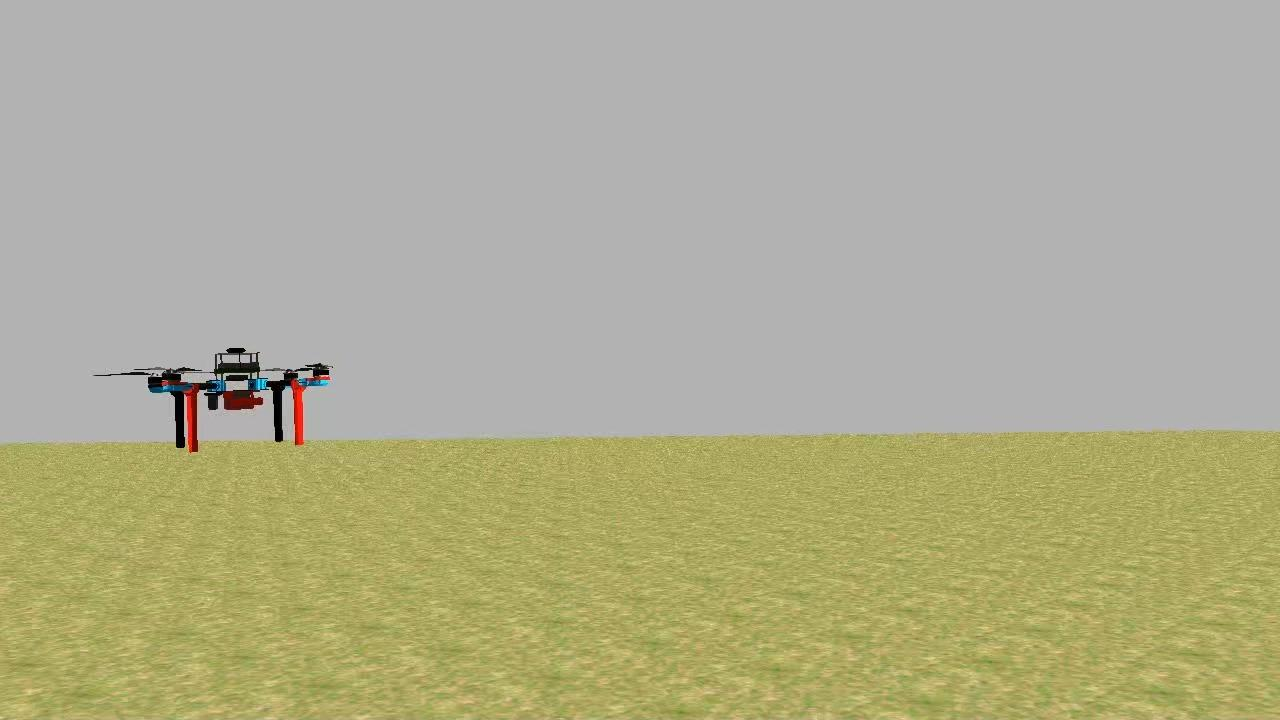UAV: (138, 342, 336, 456)
